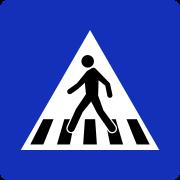Pedestrian Crossing: (20, 5, 168, 169)
